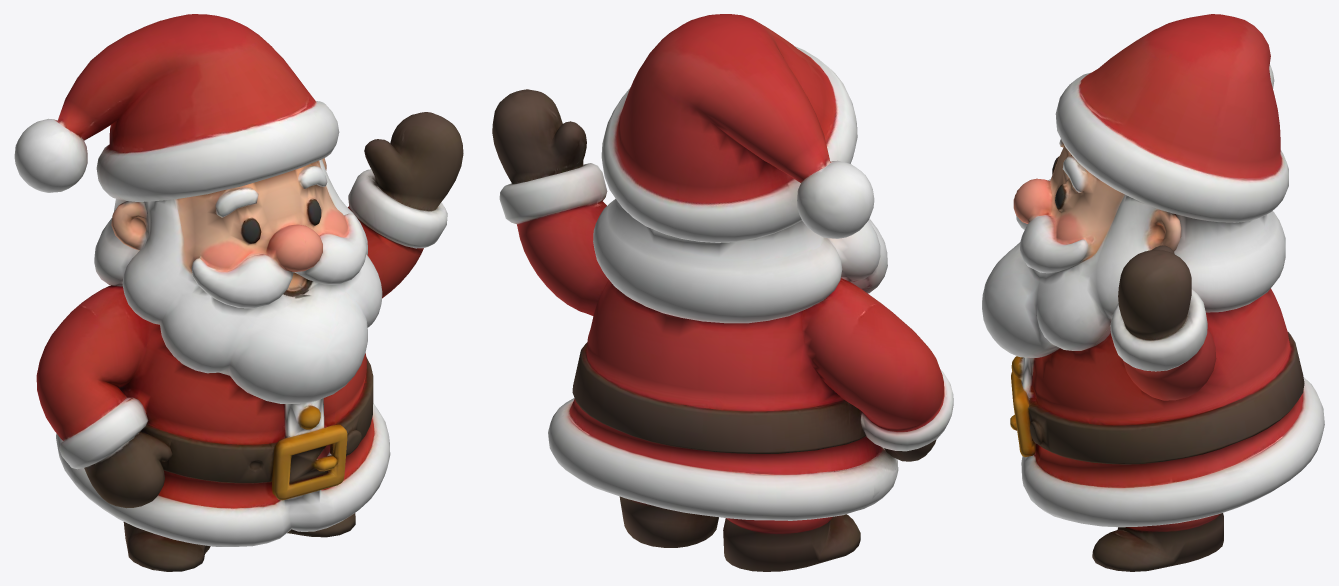
File: model.opt.glb
The picture shows the model from 3 angles, left to right: view 1: azimuth 30°, elevation 25°; view 2: azimuth 150°, elevation 25°; view 3: azimuth 270°, elevation 25°; orthographic projection. The views are drawn at different scales.
Size of the model in its own units: 1.75 by 2 by 1.27.
Materials: 1 (1 with a texture image).
